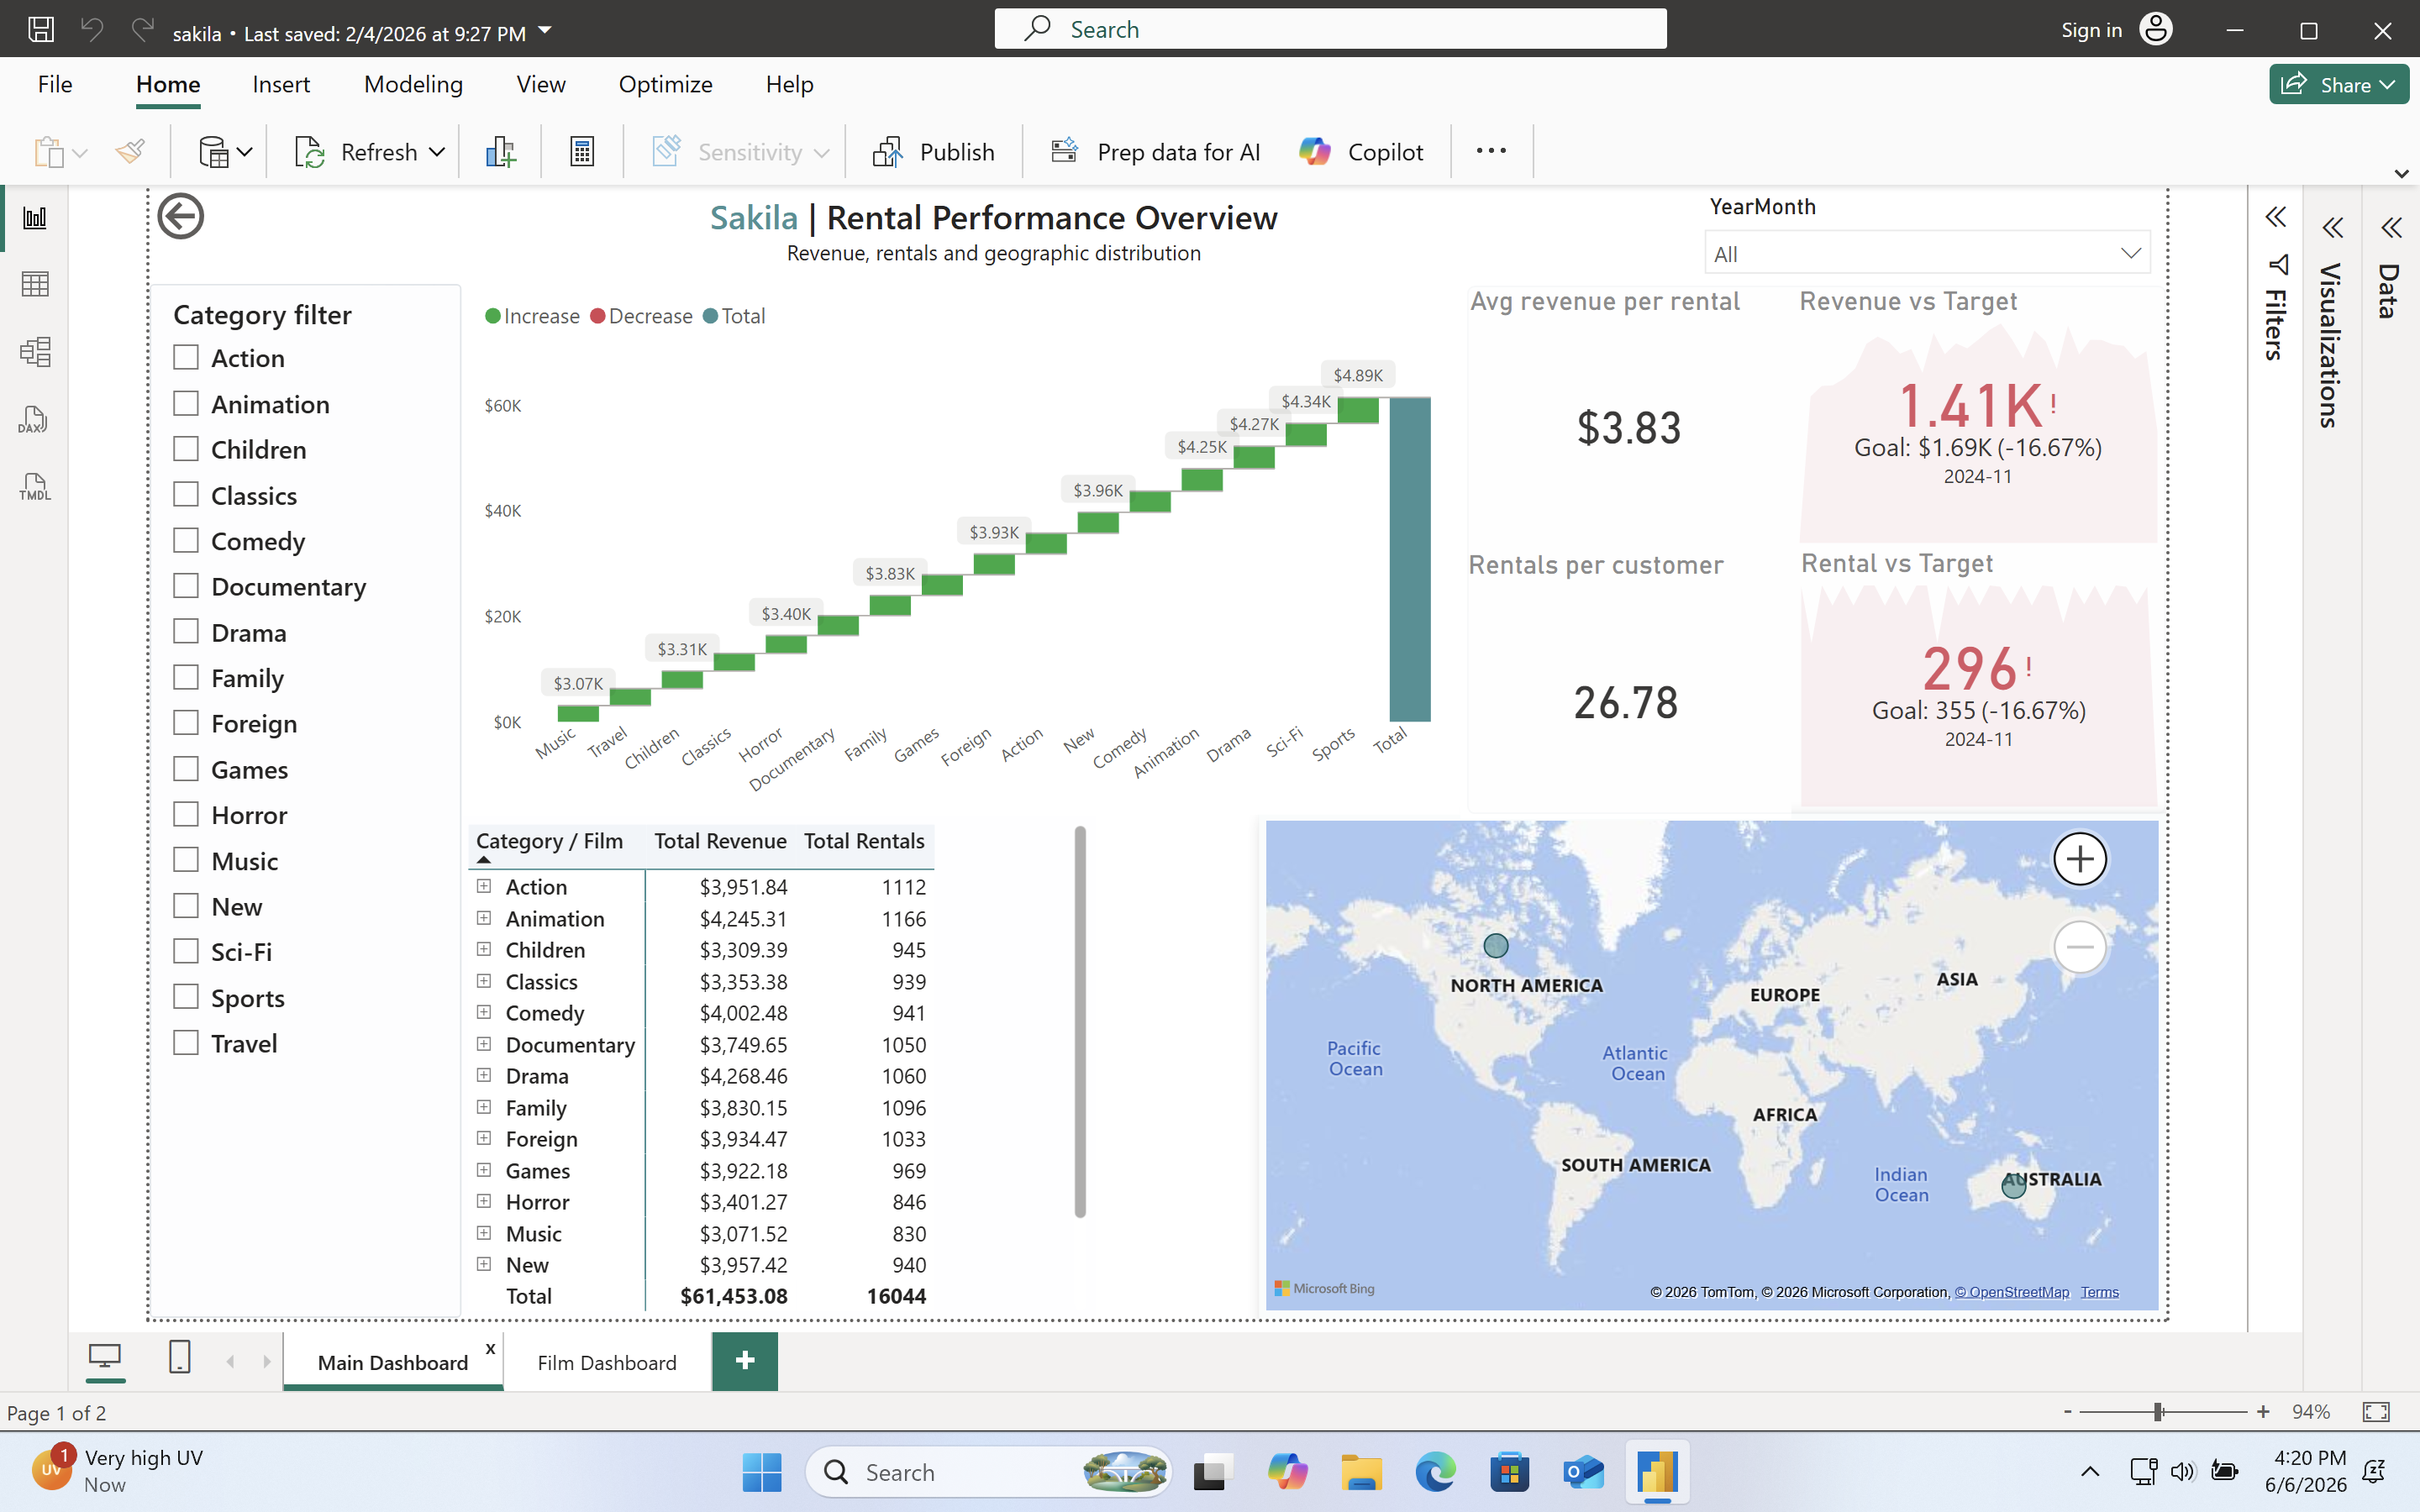

Layout of this report page (visuals, bound fields, positions):
{"tool":"powerbi","page":{"name":"Main Dashboard","canvas":[1280,720],"ordinal":0},"visuals":[{"type":"kpi","title":"Revenue vs Target","fields":{"Goal":["Mesures.Revenue_Target"],"Indicator":["Mesures.Revenue KPI Value"],"TrendLine":["dim_date.YearMonth"]},"box":[1042.7,63.8,237.3,168.6],"z":1000},{"type":"kpi","title":"Rental vs Target","fields":{"Indicator":["Mesures.Total_Rentals"],"Goal":["Mesures.Rantals_Target"],"TrendLine":["dim_date.YearMonth"]},"box":[1043.6,230.2,236.4,169.5],"z":2000},{"type":"slicer","fields":{"Values":["dim_date.YearMonth"]},"box":[976.6,0,303.4,63.4],"z":3000},{"type":"map","fields":{"Category":["dim_store.country"]},"box":[709.6,398.6,570.2,321.4],"z":4000},{"type":"waterfallChart","fields":{"Category":["dim_film.category_name"],"Y":["Mesures.Total_Revenue"]},"box":[207.4,63.4,624.8,336.8],"z":5000},{"type":"pivotTable","fields":{"Values":["Mesures.Total_Revenue","Mesures.Total_Rentals"],"Rows":["dim_film.category_name","dim_film.title"]},"box":[197.5,401.3,402.8,318.8],"z":6000},{"type":"textbox","box":[240,0,592,64],"z":7000},{"type":"actionButton","title":"To film dashboar","box":[0,0,50.2,39.6],"z":8000},{"type":"slicer","fields":{"Values":["dim_film.category_name"]},"box":[0,63.4,198.1,656.5],"z":9000},{"type":"card","title":"Rentals per customer","fields":{"Values":["Mesures.Rentals per Customer"]},"box":[832.1,231.7,210,171.1],"z":10000},{"type":"card","title":"Avg revenue per rental","fields":{"Values":["Mesures.Avg_revenue_per_rental"]},"box":[833.1,63.8,212.8,157.1],"z":11000},{"type":"shape","box":[836.4,63.8,443.6,335.5],"z":11500}]}

Visuals, with their boxes on the page's 1280x720 design canvas (x1, y1, x2, y2). These are canvas units, not pixel positions in the 2420x1512 screenshot, which may show the page scaled, cropped or inside an application window:
"Revenue vs Target" kpi: [1043, 64, 1280, 232]
"Rental vs Target" kpi: [1044, 230, 1280, 400]
slicer - dim_date.YearMonth: [977, 0, 1280, 63]
map - dim_store.country: [710, 399, 1280, 720]
waterfallChart - dim_film.category_name x Mesures.Total_Revenue: [207, 63, 832, 400]
pivotTable - Mesures.Total_Revenue x Mesures.Total_Rentals: [198, 401, 600, 720]
textbox: [240, 0, 832, 64]
"To film dashboar" actionButton: [0, 0, 50, 40]
slicer - dim_film.category_name: [0, 63, 198, 720]
"Rentals per customer" card: [832, 232, 1042, 403]
"Avg revenue per rental" card: [833, 64, 1046, 221]
shape: [836, 64, 1280, 399]
